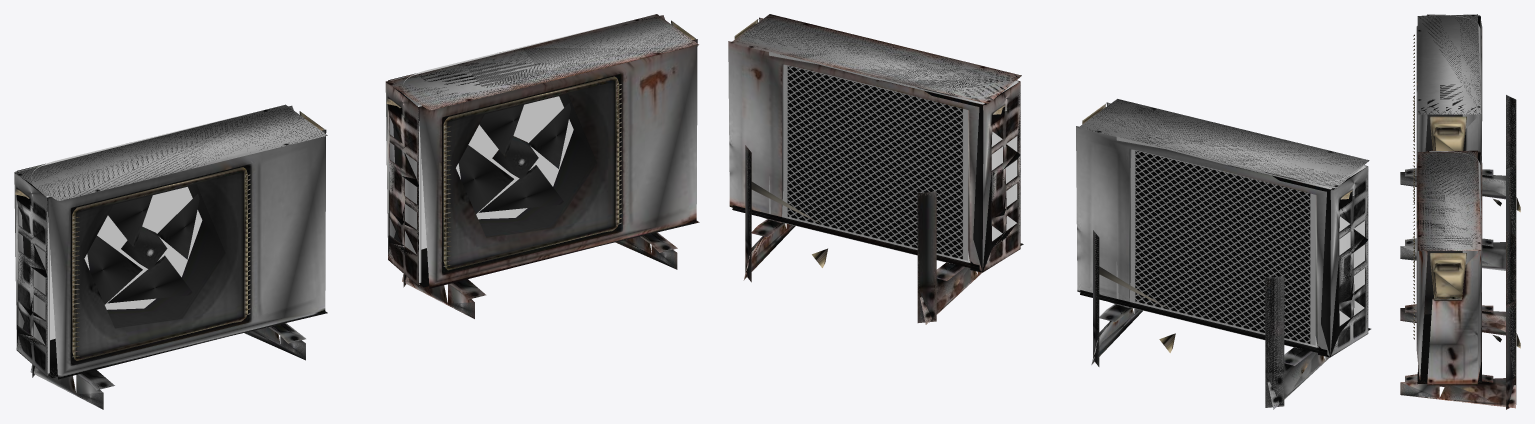
The model's file is exterior_aircon_unit.glb.
3 renders of one model, left to right at view 1: azimuth 30°, elevation 25°; view 2: azimuth 150°, elevation 25°; view 3: azimuth 270°, elevation 25°, orthographic. The views are drawn at different scales.
Visible parts, largest first — view 1: exterior_aircon_unit_rusted, exterior_aircon_unit; view 2: exterior_aircon_unit, exterior_aircon_unit_rusted; view 3: exterior_aircon_unit_rusted, exterior_aircon_unit.
Boxes of the visible parts, x1,y1,x2,y2 form: exterior_aircon_unit_rusted: (385, 14, 699, 318); exterior_aircon_unit: (14, 104, 327, 409); exterior_aircon_unit: (1076, 99, 1370, 409); exterior_aircon_unit_rusted: (728, 14, 1023, 324); exterior_aircon_unit_rusted: (1400, 150, 1520, 409); exterior_aircon_unit: (1400, 14, 1520, 270).
Size of the model in its own units: 1.78 by 0.5876 by 0.3742.
Materials: 4 (4 with a texture image).
